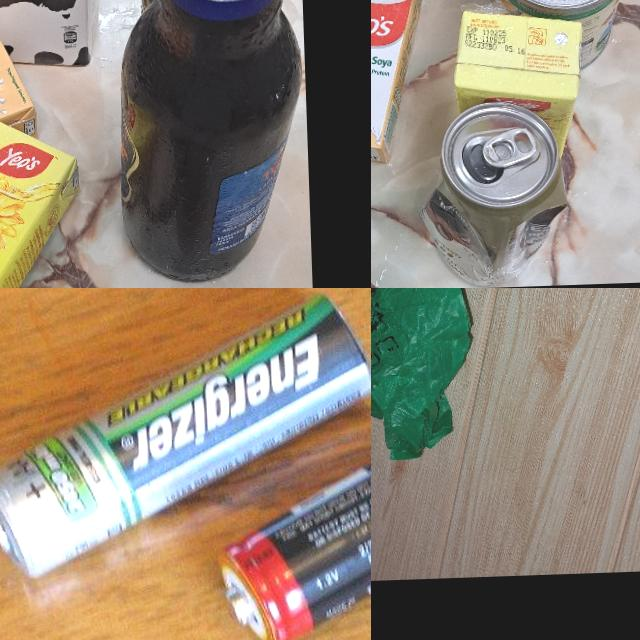aba de lata: (482, 125, 538, 167)
bateria: (0, 288, 371, 581), (211, 436, 371, 640)
caixinha: (452, 3, 582, 164), (0, 116, 87, 288), (371, 0, 434, 167)
garrafa de vidro: (106, 0, 309, 285)
lata: (417, 97, 568, 288), (485, 0, 636, 72)
sacola plástica: (371, 288, 479, 465)
